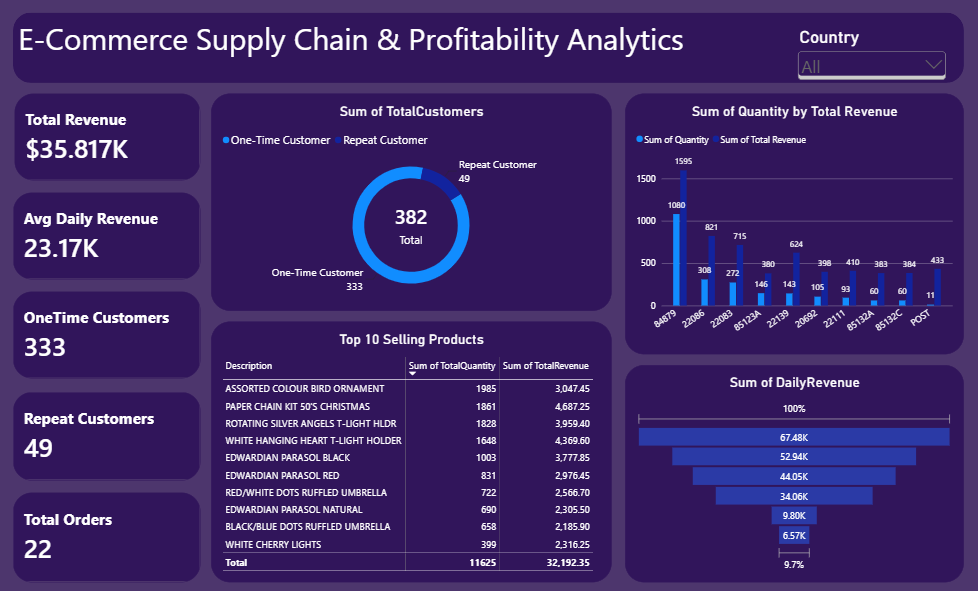

What the dashboard file says about the page in this screenshot:
{"tool":"powerbi","page":{"name":"Page 1","canvas":[1920,2000],"ordinal":0},"visuals":[{"type":"shape","box":[23.5,39.9,1487.5,110.3],"z":0},{"type":"cardVisual","fields":{"Data":["Sum(fact_sales.TotalRevenue)"]},"box":[23.5,314.4,293.3,136.1],"z":1000},{"type":"cardVisual","fields":{"Data":["top_customers.OneTime Customers"]},"box":[23.5,473.9,293.3,136.1],"z":2000},{"type":"cardVisual","fields":{"Data":["top_customers.Repeat Customers"]},"box":[23.5,633.5,293.3,138.4],"z":3000},{"type":"cardVisual","fields":{"Data":["customer_retention.Total Order"]},"box":[23.5,800.1,293.3,131.4],"z":4000},{"type":"waterfallChart","fields":{"Category":["monthly_revenue.MonthlyRevenue"],"Y":["Sum(monthly_revenue.YearMonth)"]},"box":[32.8,1466.4,734.4,312],"z":5000},{"type":"funnel","title":"Sum of DailyRevenue ","fields":{"Category":["daily_revenue.SalesDate"],"Y":["Sum(daily_revenue.DailyRevenue)"]},"box":[980.7,166.6,530,340.2],"z":6000},{"type":"donutChart","title":"Sum of TotalCustomers ","fields":{"Category":["customer_retention.CustomerType"],"Y":["Sum(customer_retention.TotalCustomers)"]},"box":[333.2,166.6,626.4,340.2],"z":7000},{"type":"pivotTable","fields":{"Rows":["top_customers.Country","top_customers.CustomerID"],"Values":["Sum(top_customers.TotalSpent)"]},"box":[23.5,950.2,298,499.7],"z":8000},{"type":"cardVisual","fields":{"Data":["customer_retention.Avg Daily Revenue"]},"box":[23.5,166.6,293.3,129],"z":9000},{"type":"treemap","fields":{"Details":["top_customers.Country"],"Values":["monthly_revenue.Total Revenuee"]},"box":[786,1278.7,725,504.4],"z":10000},{"type":"tableEx","title":"Top 10 Selling Products","fields":{"Values":["Top_product.Description","Sum(Top_product.TotalQuantity)","Sum(Top_product.TotalRevenue)"]},"box":[333.2,523.2,626.4,408.2],"z":11000},{"type":"scatterChart","title":"Average of Price by OrderStatus","fields":{"X":["Avg(fact_sales (2).Price)"],"Y":["Sum(fact_sales (2).Quantity)"],"Category":["fact_sales (2).StockCode"],"Series":["fact_sales (2).OrderStatus"],"Size":["Sum(fact_sales (2).TotalRevenue)"]},"box":[980.7,523.2,530.2,408.2],"z":12000},{"type":"gauge","fields":{"Y":["Sum(fact_sales (2).Invoice)"]},"box":[333.2,950.2,434.1,499.7],"z":13000},{"type":"pivotTable","fields":{"Values":["Min(fact_sales (2).StockCode)","Avg(fact_sales (2).Price)","Sum(fact_sales (2).Quantity)","Sum(fact_sales (2).TotalRevenue)","Sum(fact_sales (2).Invoice)"],"Rows":["fact_sales (2).Country"]},"box":[786,950.2,725,314.4],"z":14000},{"type":"slicer","fields":{"Values":["fact_sales (2).Country"]},"box":[1182.5,63.3,300.3,86.8],"z":15000},{"type":"image","box":[173.6,199.4,180.7,65.7],"z":15002},{"type":"image","box":[131.4,823.5,251,82.1],"z":15007},{"type":"image","box":[152.5,694.5,211.2,65.7],"z":15009},{"type":"image","box":[154.9,363.7,218.2,70.4],"z":15010},{"type":"image","box":[154.9,523.2,204.1,68],"z":15011}]}

Visuals, with their boxes on the page's 1920x2000 design canvas (x1, y1, x2, y2). These are canvas units, not pixel positions in the 978x591 screenshot, which may show the page scaled, cropped or inside an application window:
shape: box=[24, 40, 1511, 150]
cardVisual - Sum(fact_sales.TotalRevenue): box=[24, 314, 317, 450]
cardVisual - top_customers.OneTime Customers: box=[24, 474, 317, 610]
cardVisual - top_customers.Repeat Customers: box=[24, 634, 317, 772]
cardVisual - customer_retention.Total Order: box=[24, 800, 317, 932]
waterfallChart - monthly_revenue.MonthlyRevenue x Sum(monthly_revenue.YearMonth): box=[33, 1466, 767, 1778]
"Sum of DailyRevenue " funnel: box=[981, 167, 1511, 507]
"Sum of TotalCustomers " donutChart: box=[333, 167, 960, 507]
pivotTable - top_customers.Country x top_customers.CustomerID: box=[24, 950, 322, 1450]
cardVisual - customer_retention.Avg Daily Revenue: box=[24, 167, 317, 296]
treemap - top_customers.Country x monthly_revenue.Total Revenuee: box=[786, 1279, 1511, 1783]
"Top 10 Selling Products" tableEx: box=[333, 523, 960, 931]
"Average of Price by OrderStatus" scatterChart: box=[981, 523, 1511, 931]
gauge - Sum(fact_sales (2).Invoice): box=[333, 950, 767, 1450]
pivotTable - Min(fact_sales (2).StockCode) x Avg(fact_sales (2).Price): box=[786, 950, 1511, 1265]
slicer - fact_sales (2).Country: box=[1182, 63, 1483, 150]
image: box=[174, 199, 354, 265]
image: box=[131, 824, 382, 906]
image: box=[152, 694, 364, 760]
image: box=[155, 364, 373, 434]
image: box=[155, 523, 359, 591]
